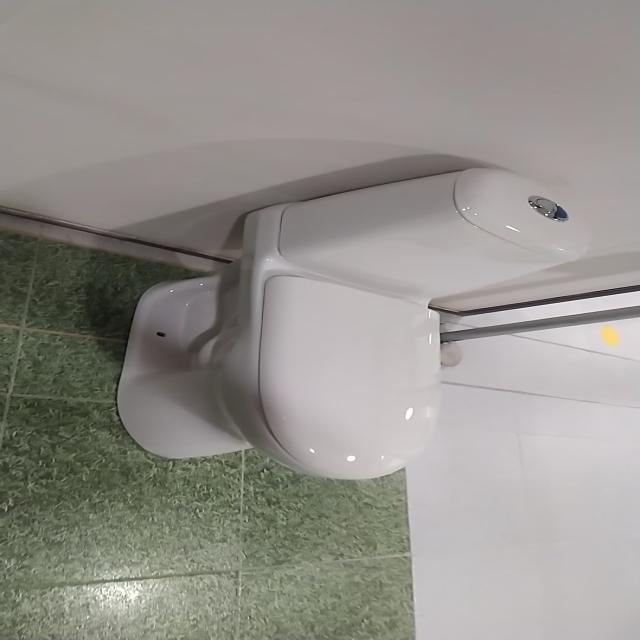toilet: (114, 166, 596, 480)
